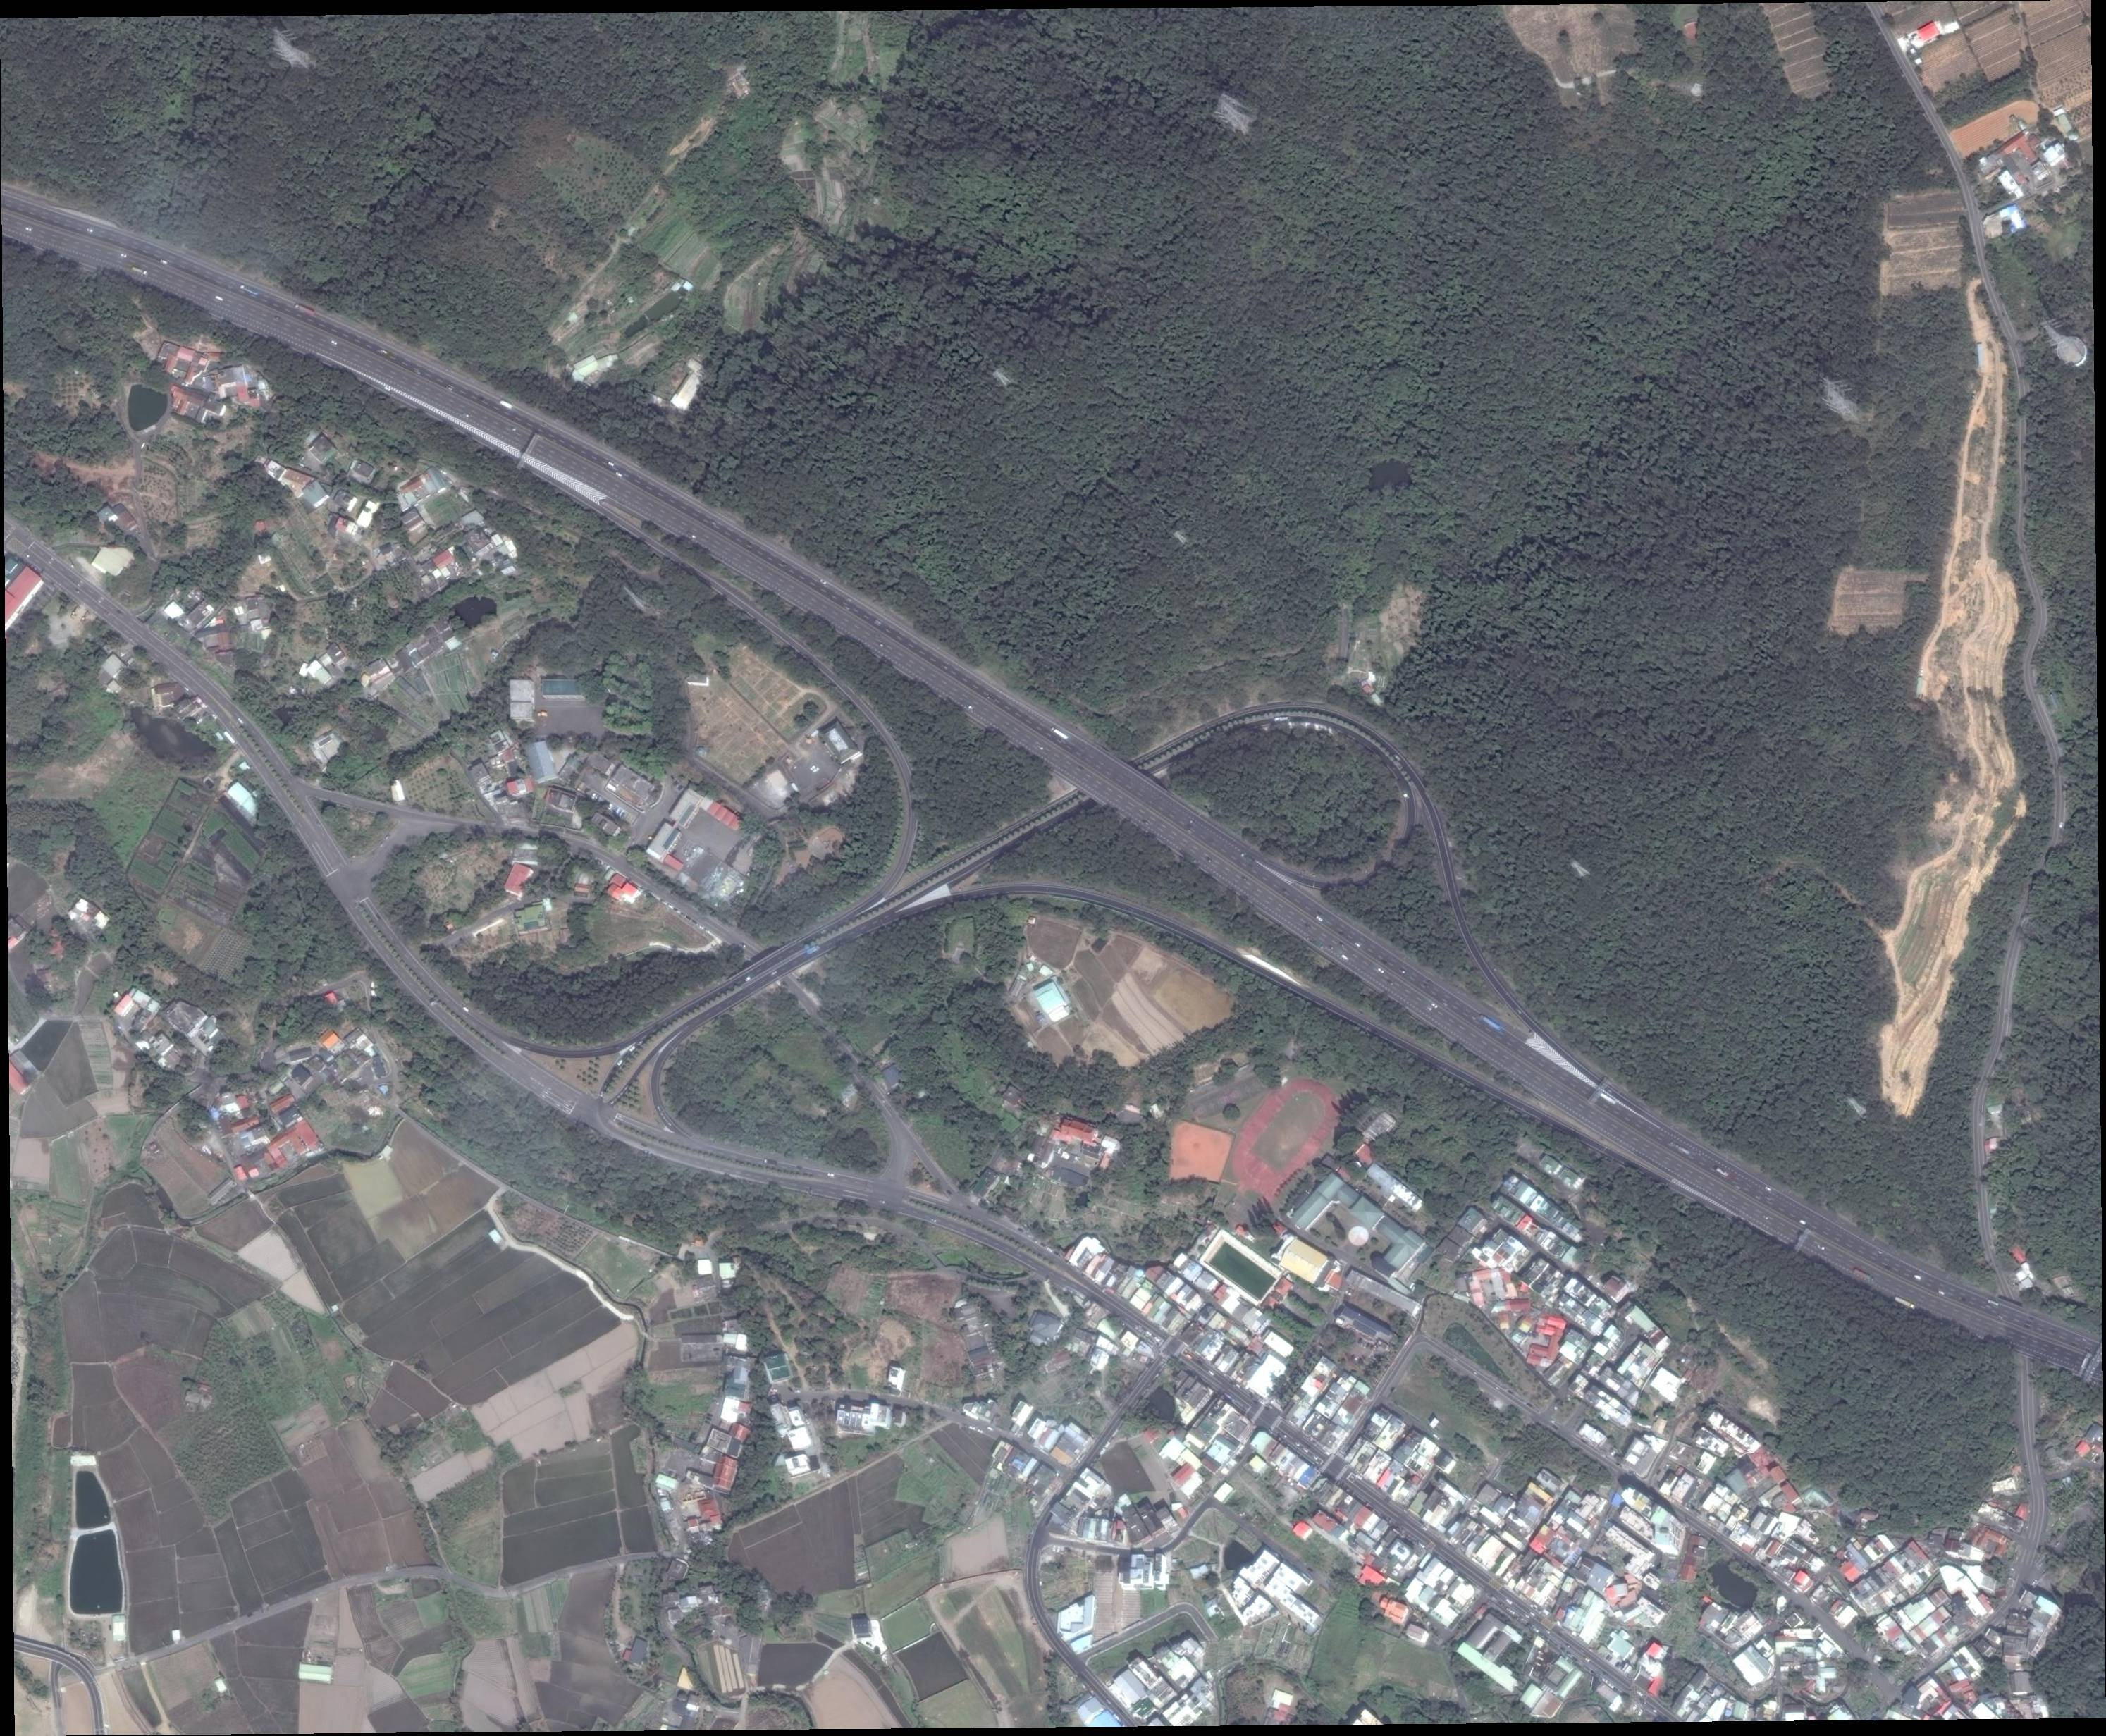ground track field: (1214, 1062, 1349, 1214)
